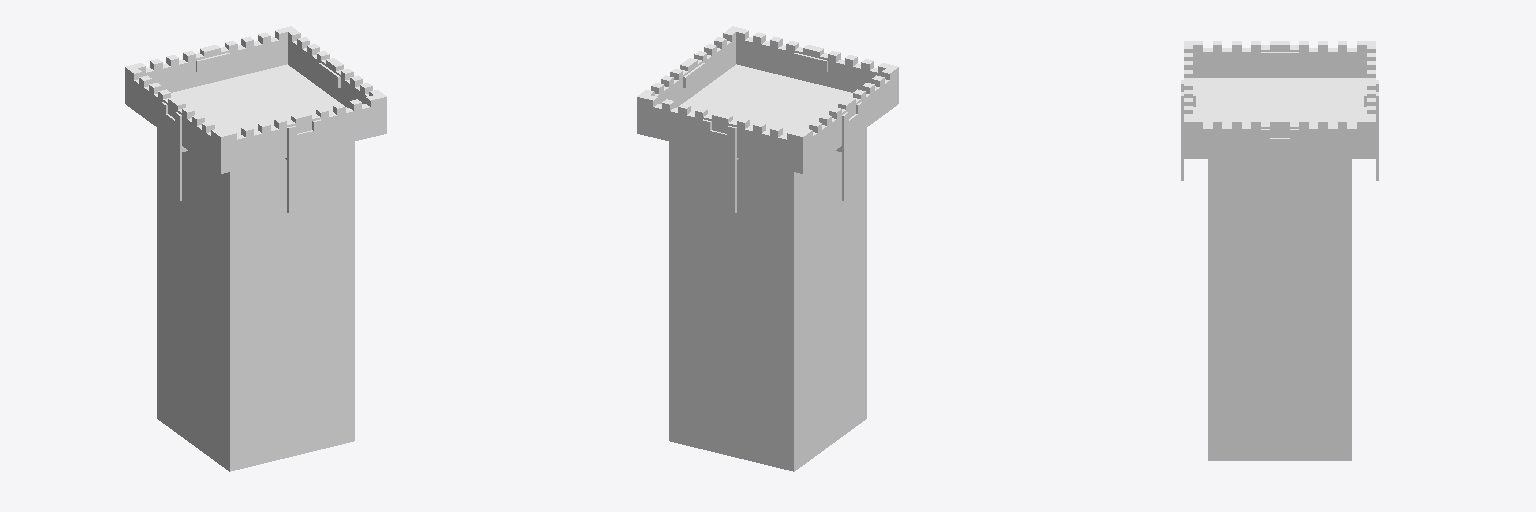
The model's file is TVS_VoxelKnights_Tower.obj.
3 views of the same model, side by side, from view 1: azimuth 30°, elevation 25°; view 2: azimuth 150°, elevation 25°; view 3: azimuth 270°, elevation 25° (orthographic).
Visible parts, largest first — view 1: ObjObject.001; view 2: ObjObject.001; view 3: ObjObject.001.
Boxes of the visible parts, x1=… form: ObjObject.001: x1=125, y1=26, x2=386, y2=471; ObjObject.001: x1=637, y1=26, x2=898, y2=471; ObjObject.001: x1=1181, y1=41, x2=1378, y2=460.
Size of the model in its own units: 8.2 by 16 by 8.2.